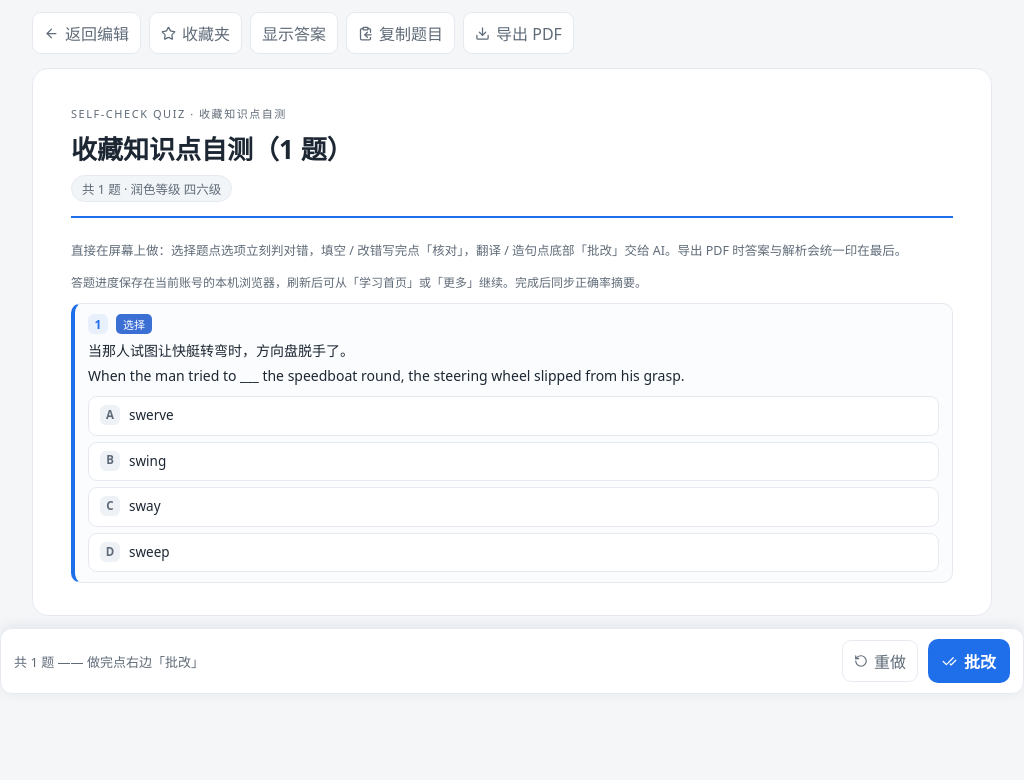
Test: 选择题：点选项立刻判对错 › 判过之后选项锁住（再点也改不了判定），但可以「重做本题」
The width and height of the screenshot is (1024, 780).
Click the button "A swerve" at (151, 415), box [88,396,939,436]
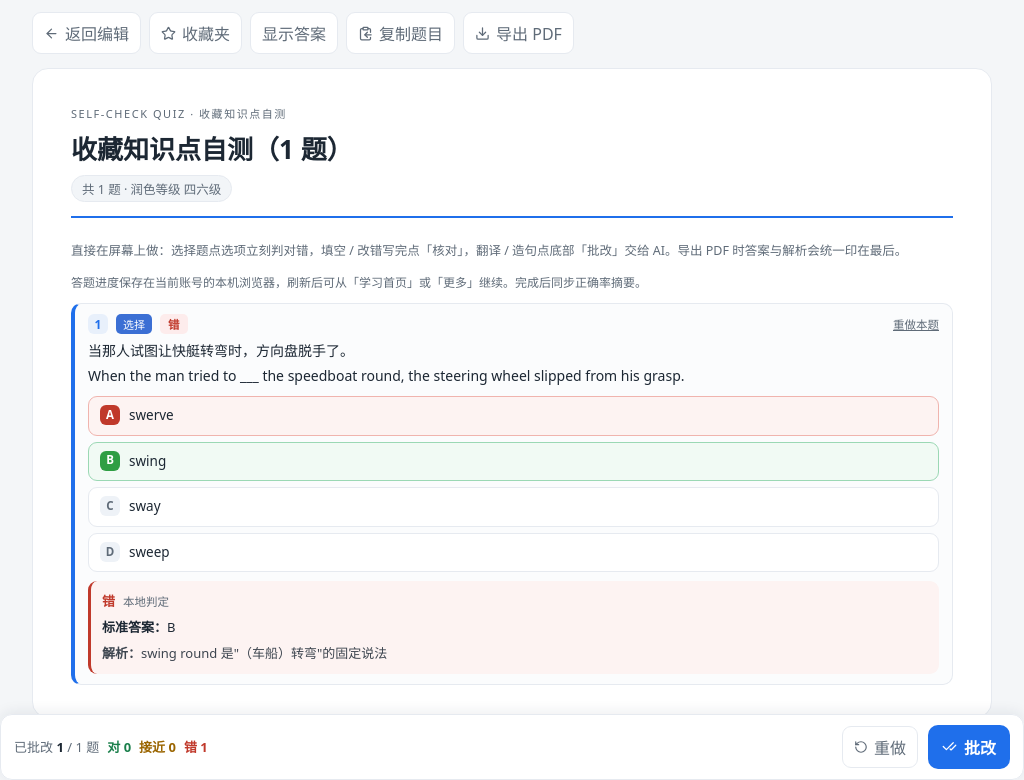
expect the button "A swerve" is disabled: met, box [88,396,939,436]
Click the button "重做本题" at (916, 324), box [893,316,939,332]
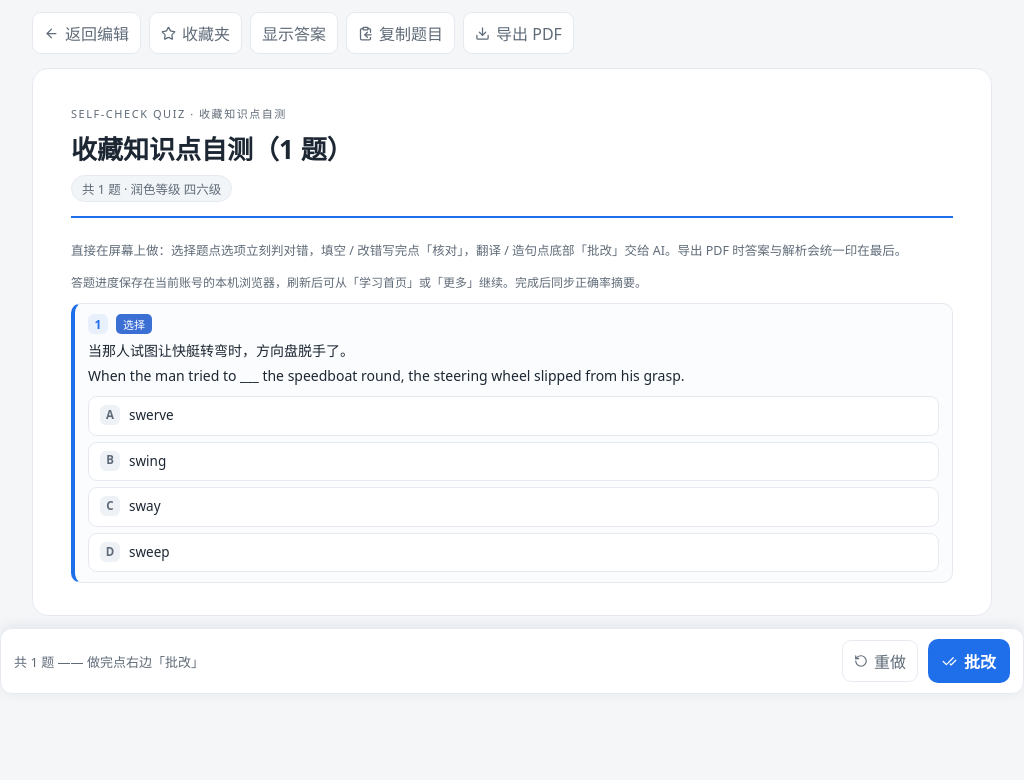
expect the text with class "wrong" is gone: met
